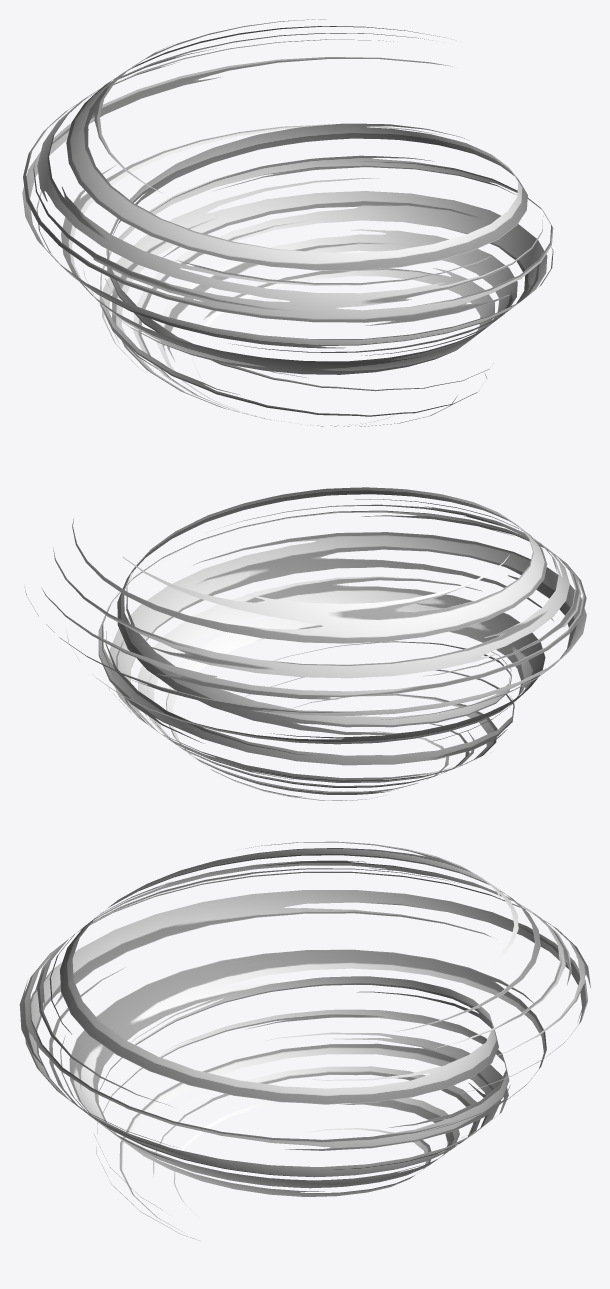
The model's file is eff_trail_07.FBX.
The picture shows the model from 3 angles, top to bottom: view 1: azimuth 30°, elevation 25°; view 2: azimuth 150°, elevation 25°; view 3: azimuth 270°, elevation 25°; orthographic projection. The views are drawn at different scales.
Visible parts, largest first — view 1: eff_trail_07; view 2: eff_trail_07; view 3: eff_trail_07.
Part boxes in pixels (x1,y1,x2,y2): eff_trail_07: [22, 19, 553, 426]; eff_trail_07: [24, 487, 586, 800]; eff_trail_07: [19, 841, 590, 1240].
Size of the model in its own units: 260 by 149 by 242.
1 material, 1 textured.
